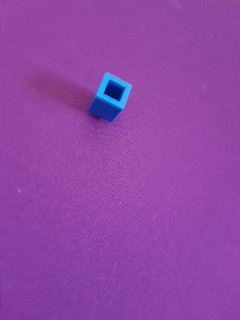1x1 blue: (85, 71, 134, 124)
